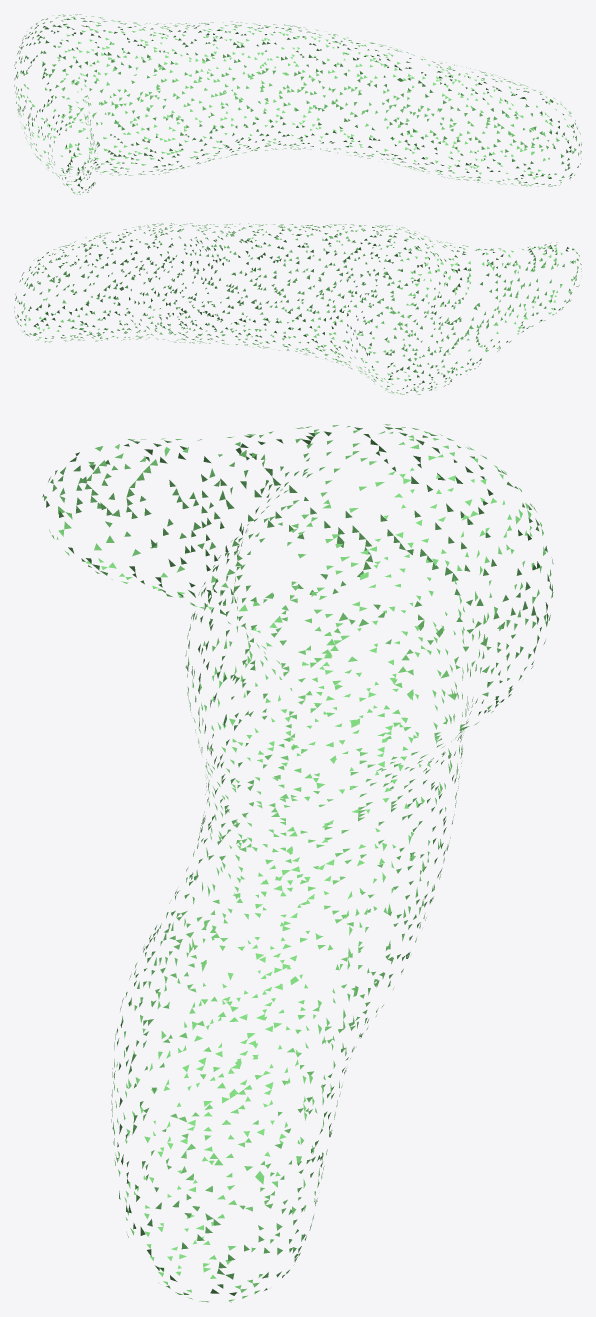
Rendered from morph_017.glb.
The picture shows the model from 3 angles, top to bottom: view 1: azimuth 30°, elevation 25°; view 2: azimuth 150°, elevation 25°; view 3: azimuth 270°, elevation 25°; orthographic projection. The views are drawn at different scales.
Bounding box in the file's own units: 104 × 42.84 × 44.14.
